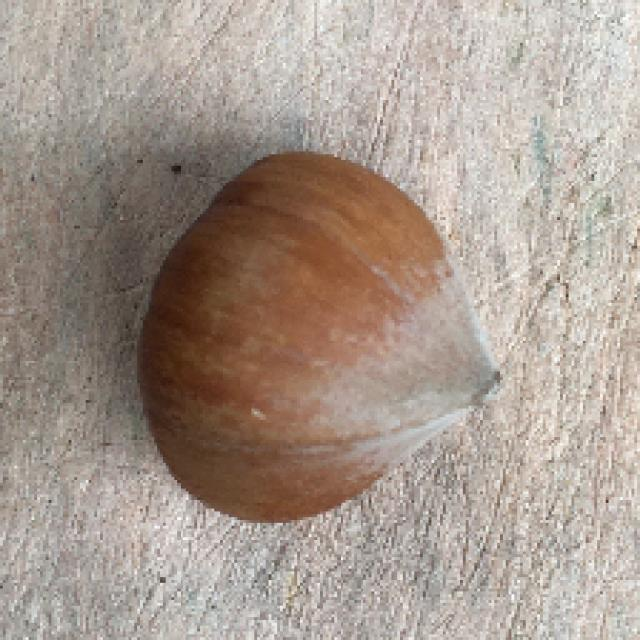QualityHazelnut: (138, 154, 509, 523)
